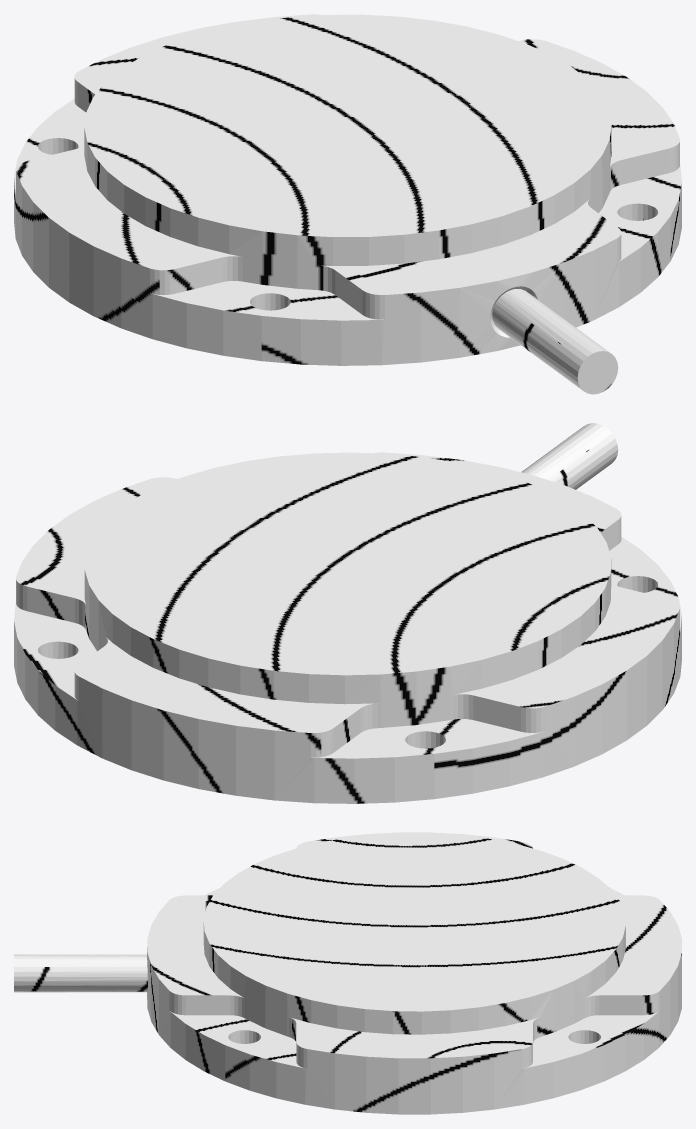
3 renders of one model, top to bottom at view 1: azimuth 30°, elevation 25°; view 2: azimuth 150°, elevation 25°; view 3: azimuth 270°, elevation 25°, orthographic. The views are drawn at different scales.
Parts seen in each view (by area): view 1: Base; view 2: Base; view 3: Base.
Part boxes in pixels (x1,y1,x2,y2): Base: (14, 14, 681, 394); Base: (14, 423, 681, 803); Base: (14, 832, 681, 1114).
Size of the model in its own units: 0.1467 by 0.1834 by 0.024.
Materials: 1 (1 with a texture image).
